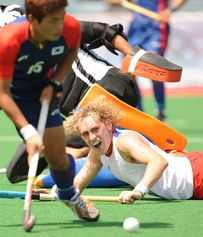falling: (37, 98, 203, 208)
